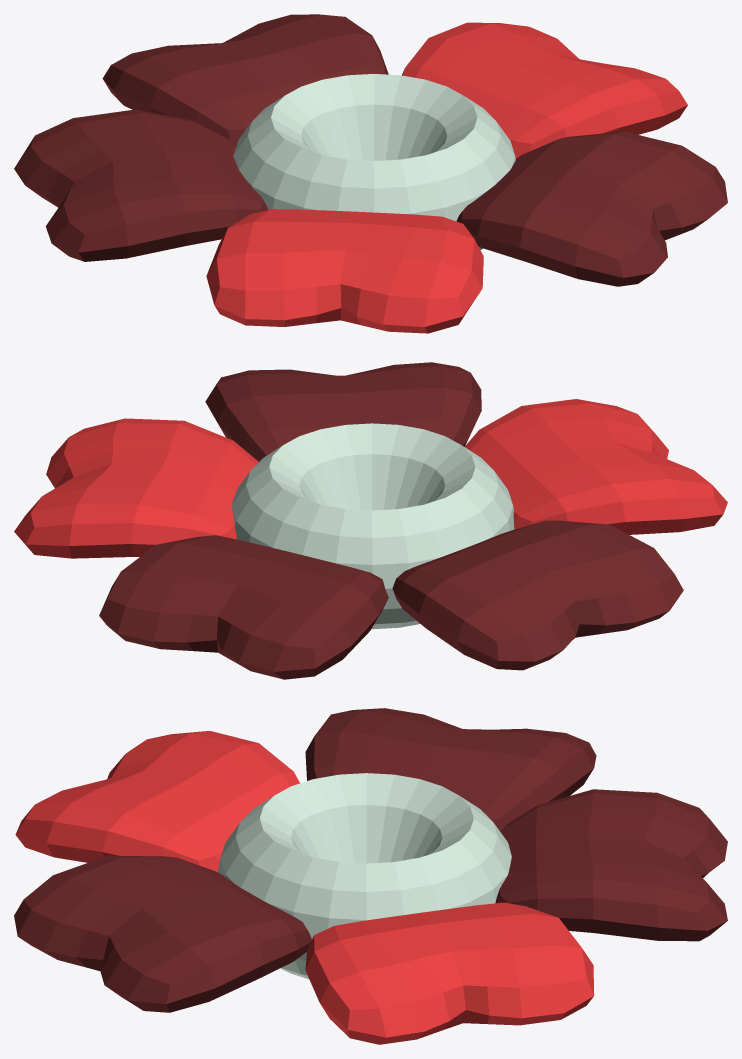
File: Planta escupidora.fbx
3 renders of one model, top to bottom at view 1: azimuth 30°, elevation 25°; view 2: azimuth 150°, elevation 25°; view 3: azimuth 270°, elevation 25°, orthographic. The views are drawn at different scales.
Visible parts, largest first — view 1: Cube, Sphere; view 2: Cube, Sphere; view 3: Cube, Sphere.
Part boxes in pixels (left/top/right/bottom): Cube: left=14, top=14, right=727, bottom=333; Sphere: left=233, top=74, right=515, bottom=249; Cube: left=14, top=362, right=727, bottom=679; Sphere: left=231, top=423, right=514, bottom=629; Cube: left=14, top=708, right=727, bottom=1044; Sphere: left=217, top=773, right=511, bottom=979.
Size of the model in its own units: 492 by 96.6 by 472.
